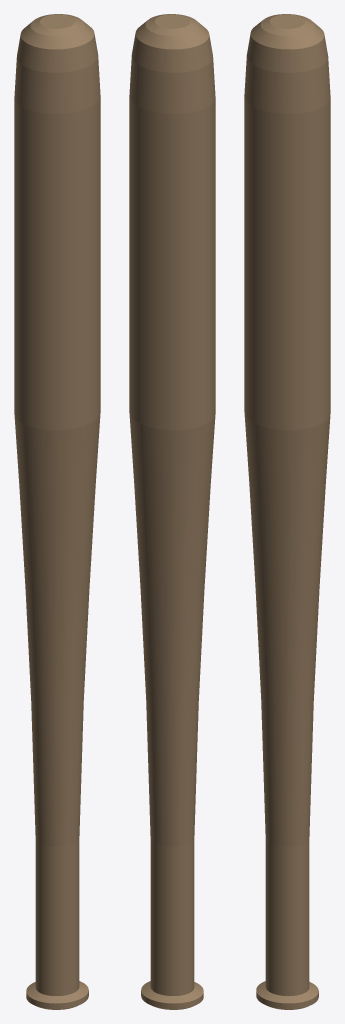
3 views of the same model, side by side, from view 1: azimuth 30°, elevation 25°; view 2: azimuth 150°, elevation 25°; view 3: azimuth 330°, elevation 25° (orthographic).
Visible parts, largest first — view 1: wooden_bat; view 2: wooden_bat; view 3: wooden_bat.
Part boxes in pixels (x1=…): wooden_bat: x1=14, y1=14, x2=100, y2=1009; wooden_bat: x1=129, y1=14, x2=215, y2=1009; wooden_bat: x1=244, y1=14, x2=330, y2=1009.
Size of the model in its own units: 0.0687 by 0.85 by 0.0654.
